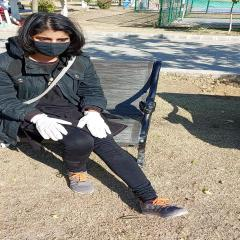gloved: (30, 114, 72, 140), (79, 110, 111, 138)
